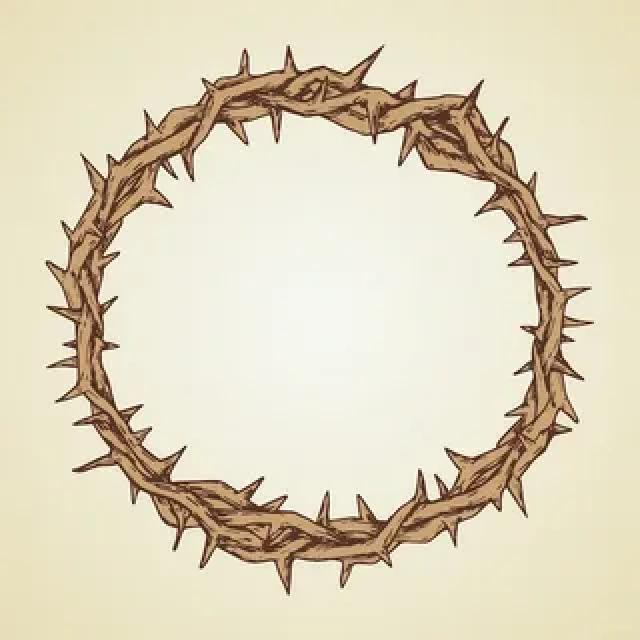crown: (58, 54, 580, 574)
